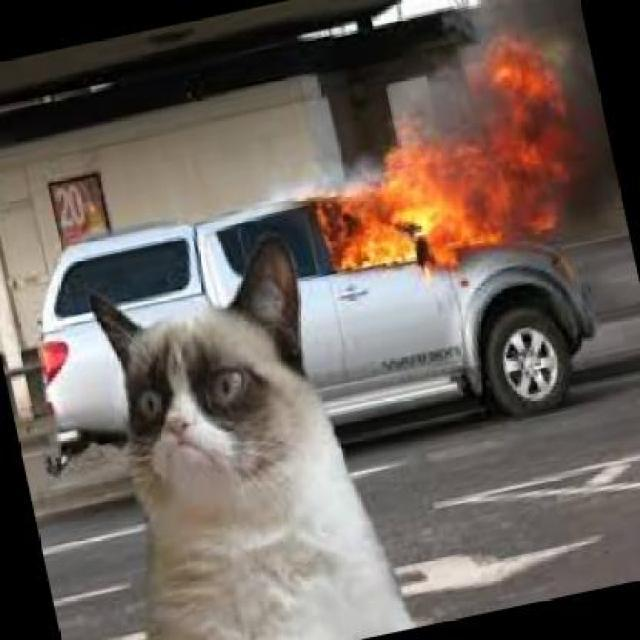Fire: (323, 42, 575, 270)
Smoke: (472, 5, 598, 58), (388, 60, 476, 130), (582, 73, 612, 231)
